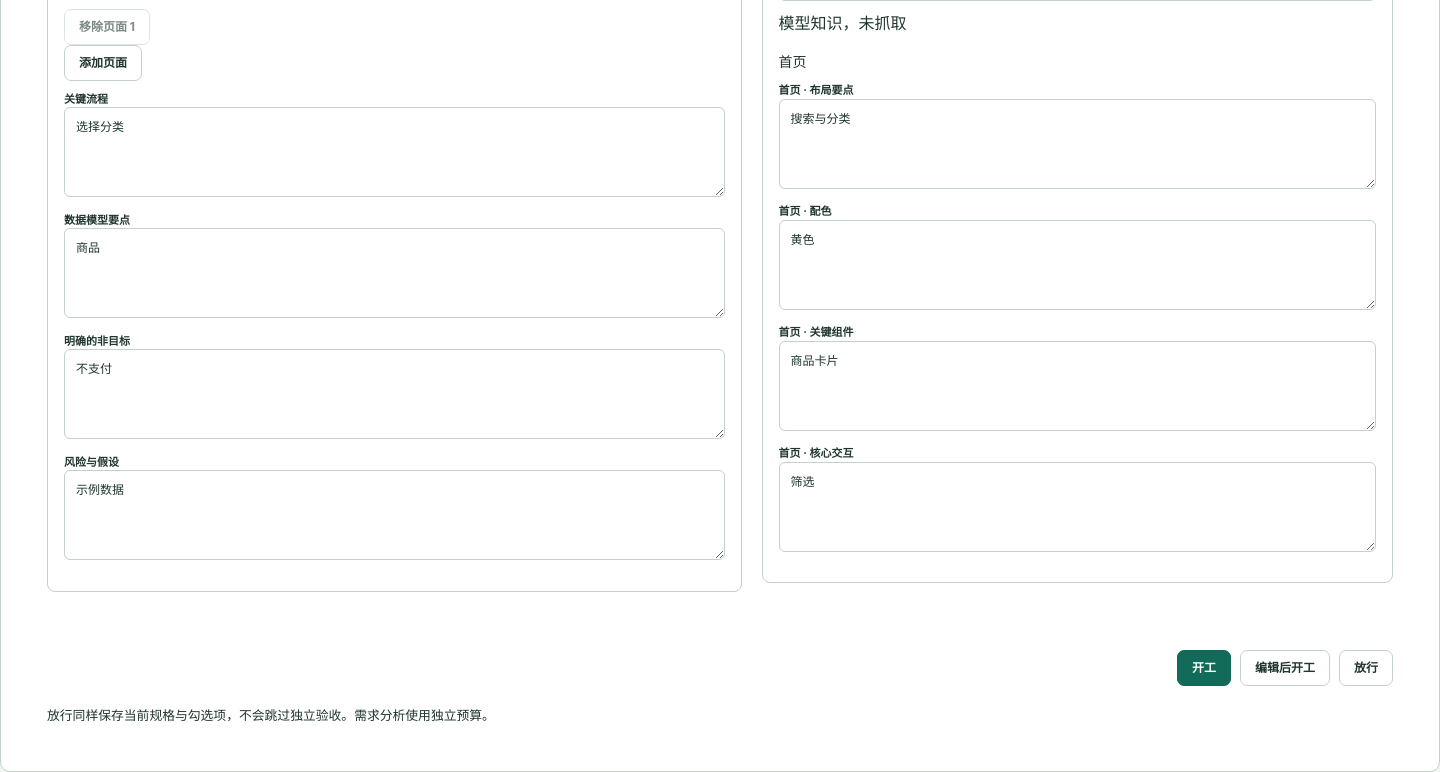
Test: keeps the spec visible on conflict and prevents unauthorized confirmation
(page scrolled)
Click the button "放行": {"x": 1366, "y": 668} [1339,650,1393,686]
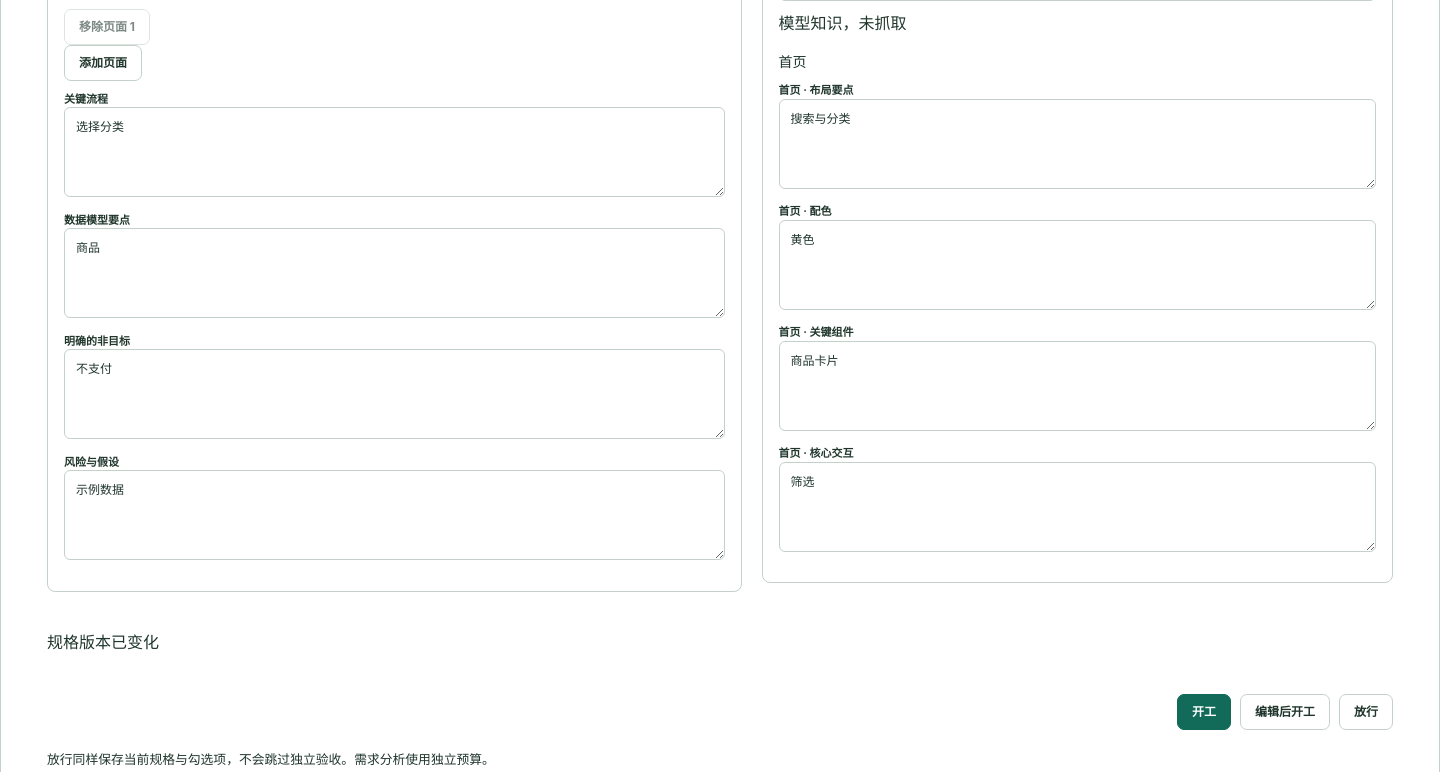
Expected: the message reads "规格版本已变化", [47,632,159,652]
